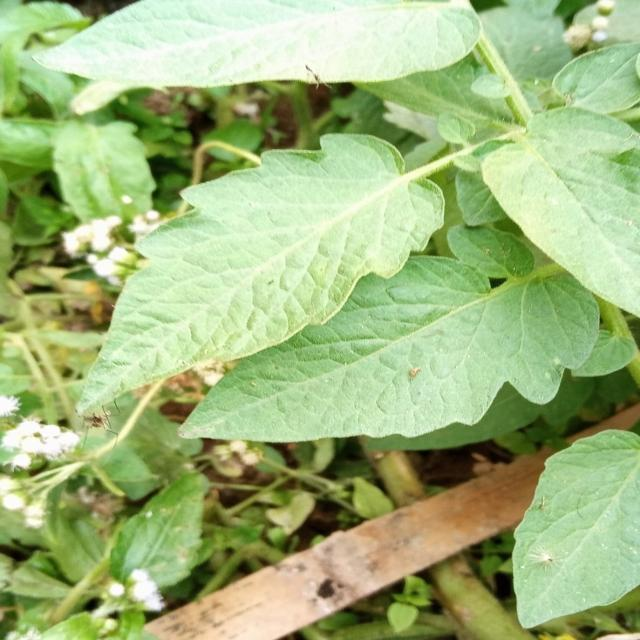Healthy: (21, 94, 470, 427), (177, 253, 601, 444), (482, 108, 639, 315), (513, 430, 639, 626)
